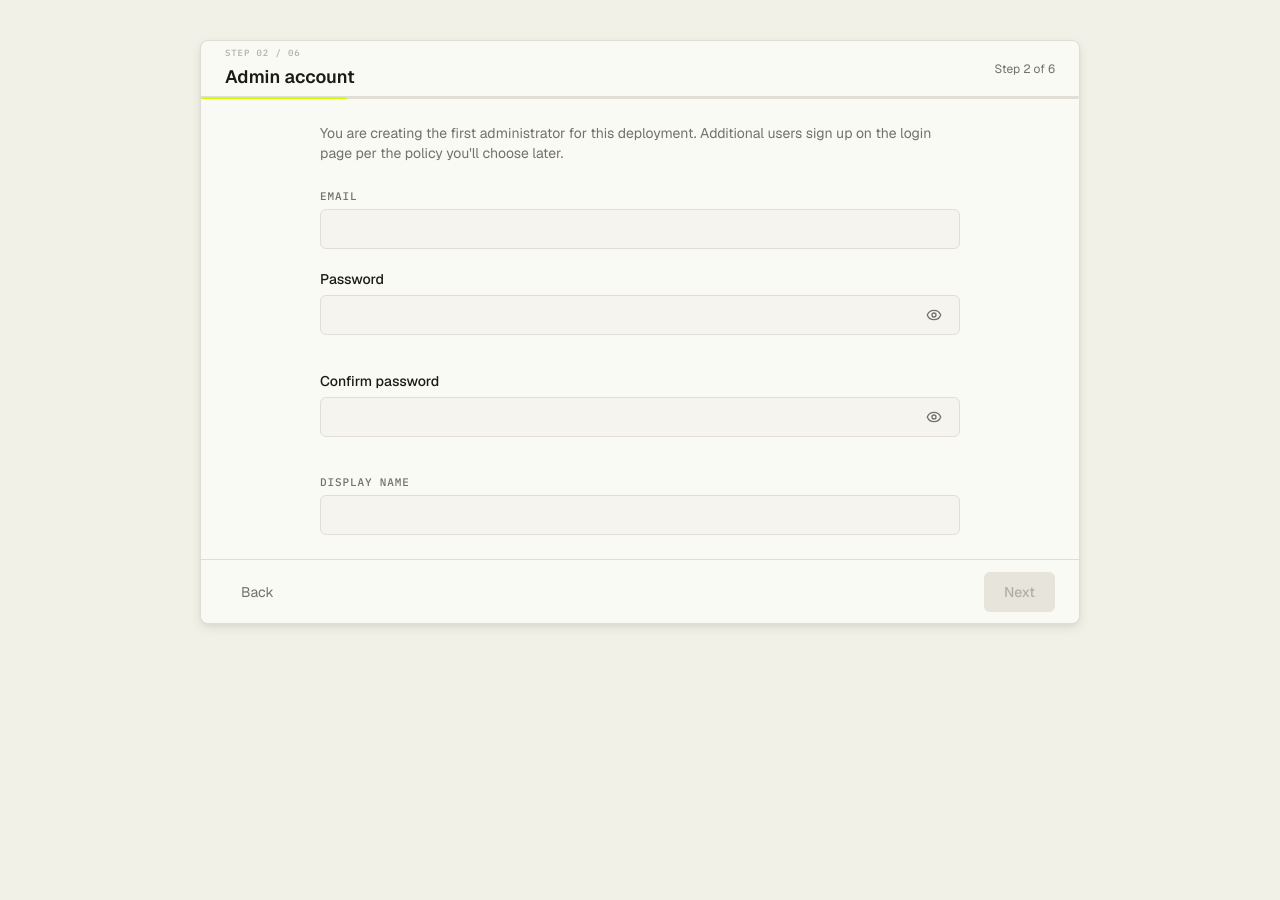
Test: AdminAccountStep › shows mismatch error when passwords differ
In the password field labelled "Password": (640, 315) x1=320 y1=295 x2=960 y2=335, type "CorrectHorseBattery9!"
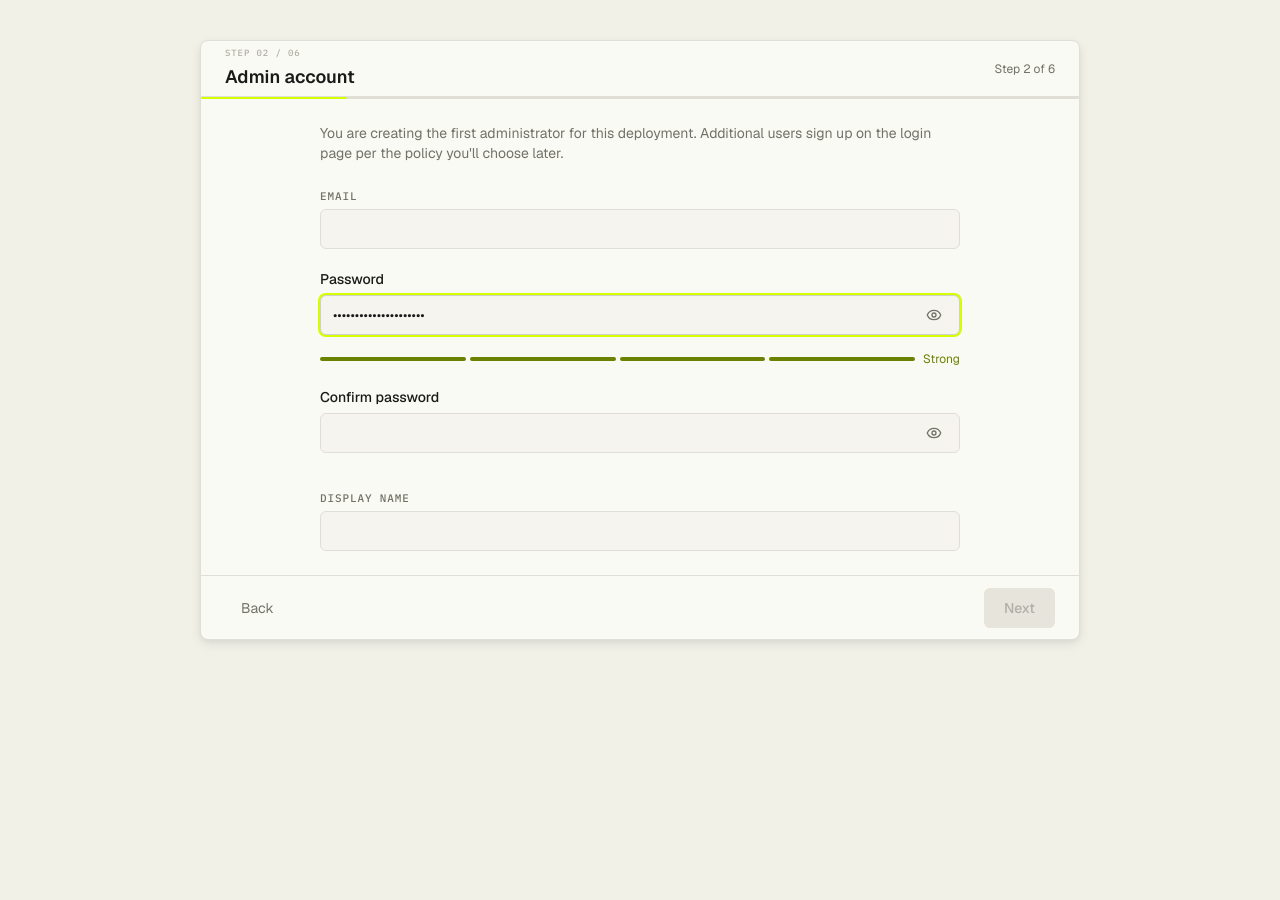
In the password field labelled "Confirm password": (640, 433) x1=320 y1=413 x2=960 y2=453, type "different"
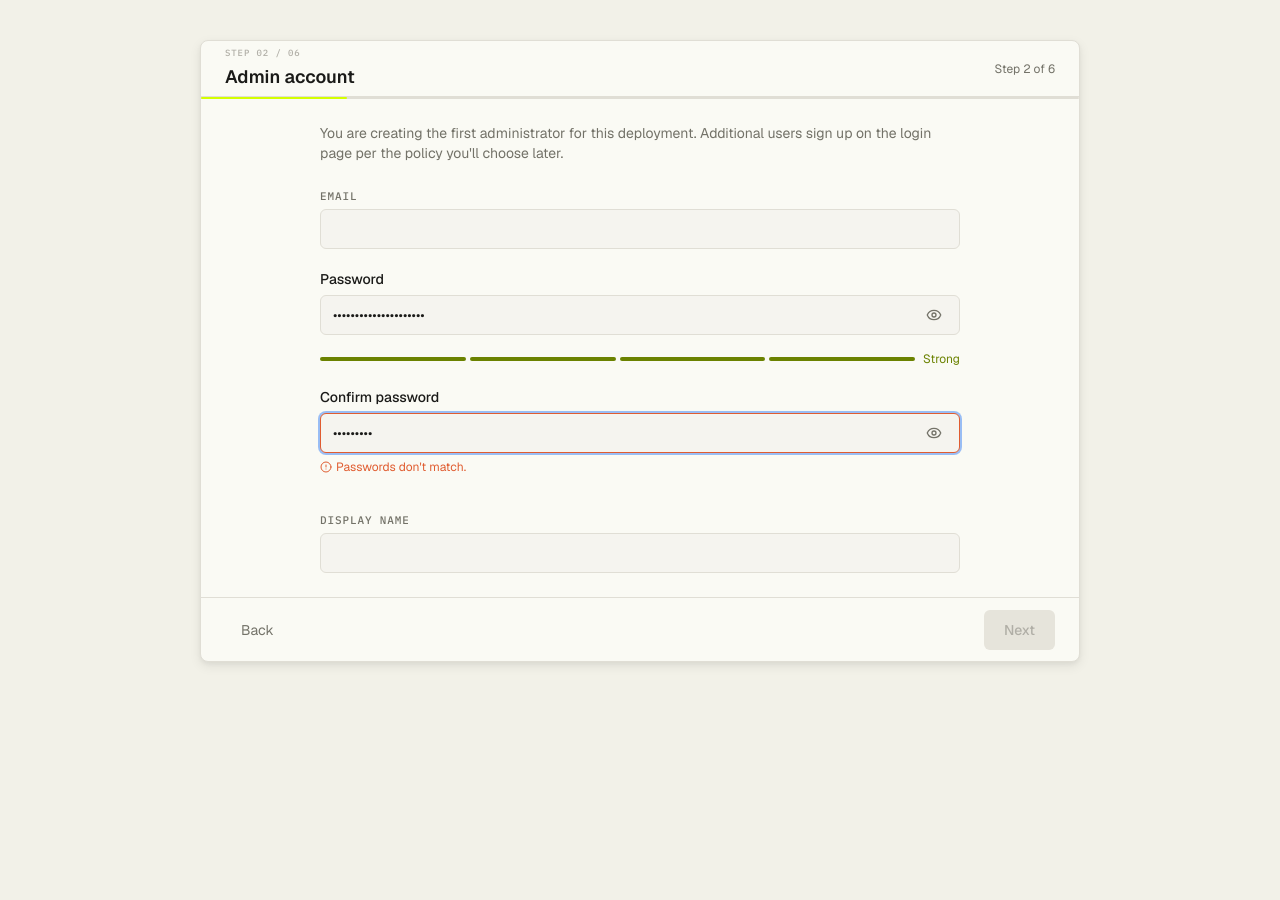
Expected: the text "Passwords don't match." is shown, x1=320 y1=459 x2=466 y2=475
